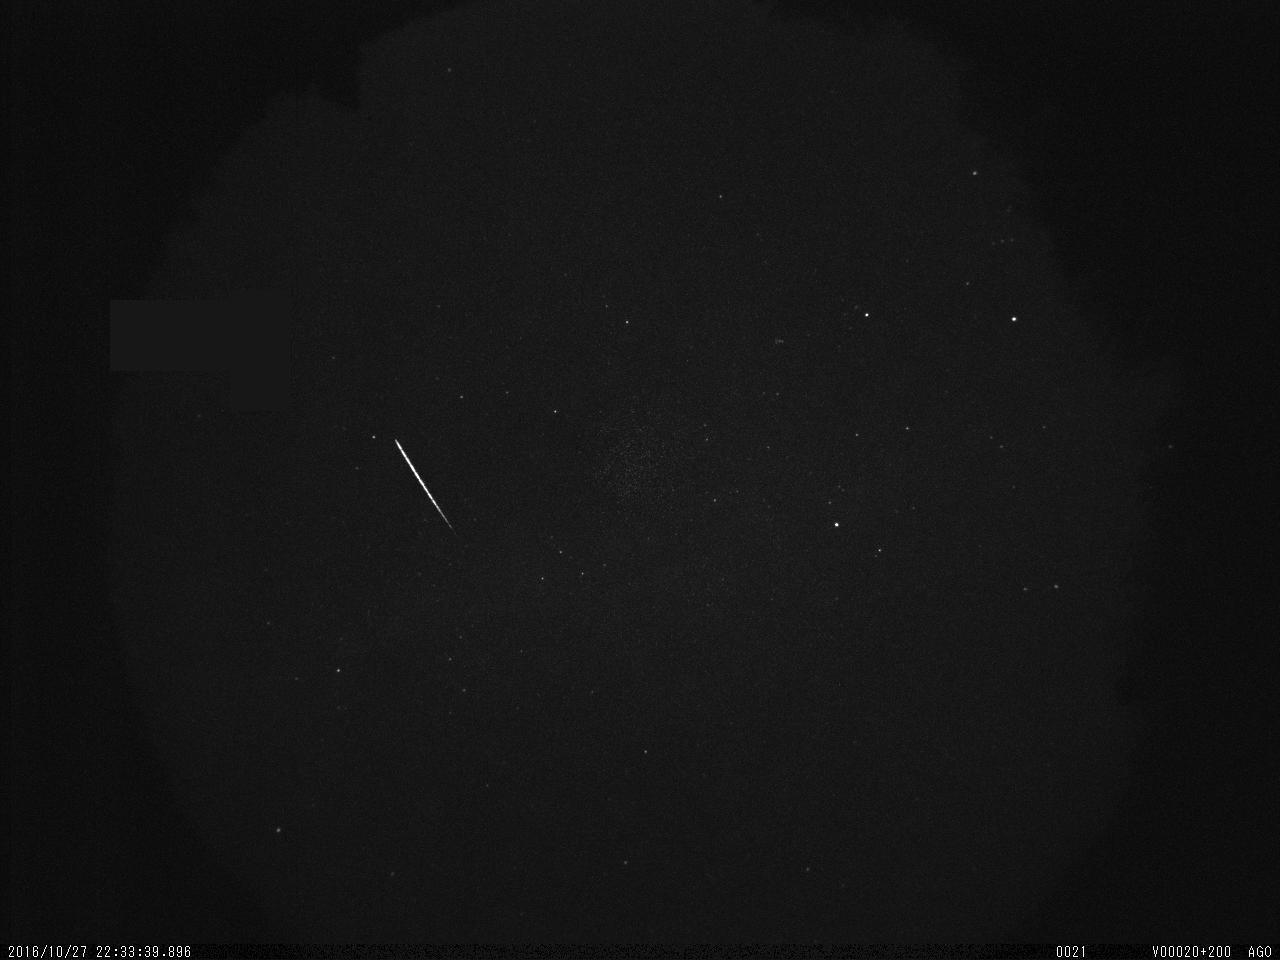meteor: (383, 427, 472, 546)
